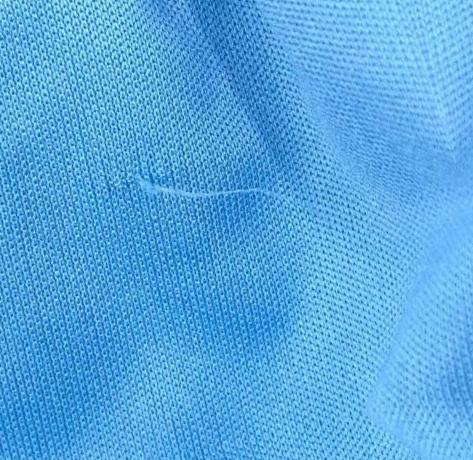snag: (124, 163, 281, 218)
